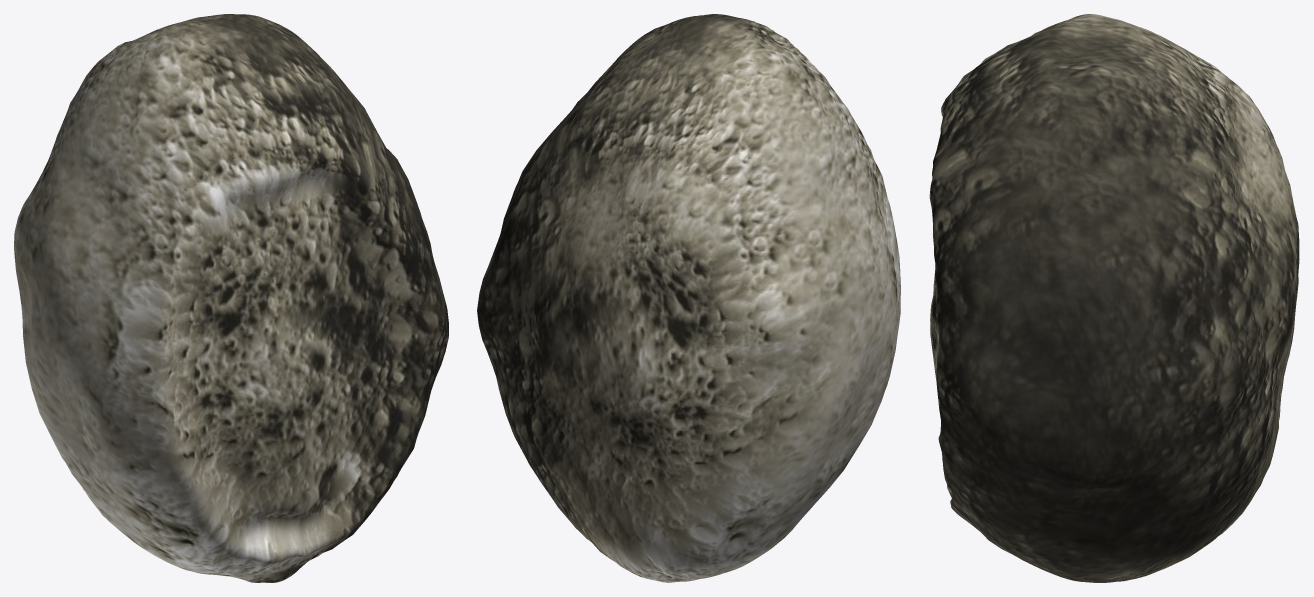
Rendered from hyperion-nasa.glb.
3 views of the same model, side by side, from view 1: azimuth 30°, elevation 25°; view 2: azimuth 150°, elevation 25°; view 3: azimuth 270°, elevation 25° (orthographic). The views are drawn at different scales.
Parts seen in each view (by area): view 1: Hyperion; view 2: Hyperion; view 3: Hyperion.
Boxes of the visible parts, box(x1,y1,x2,y2) form: Hyperion: box(14, 14, 448, 582); Hyperion: box(477, 14, 900, 582); Hyperion: box(929, 14, 1299, 582).
Size of the model in its own units: 275 by 391 by 250.
Materials: 1 (1 with a texture image).
